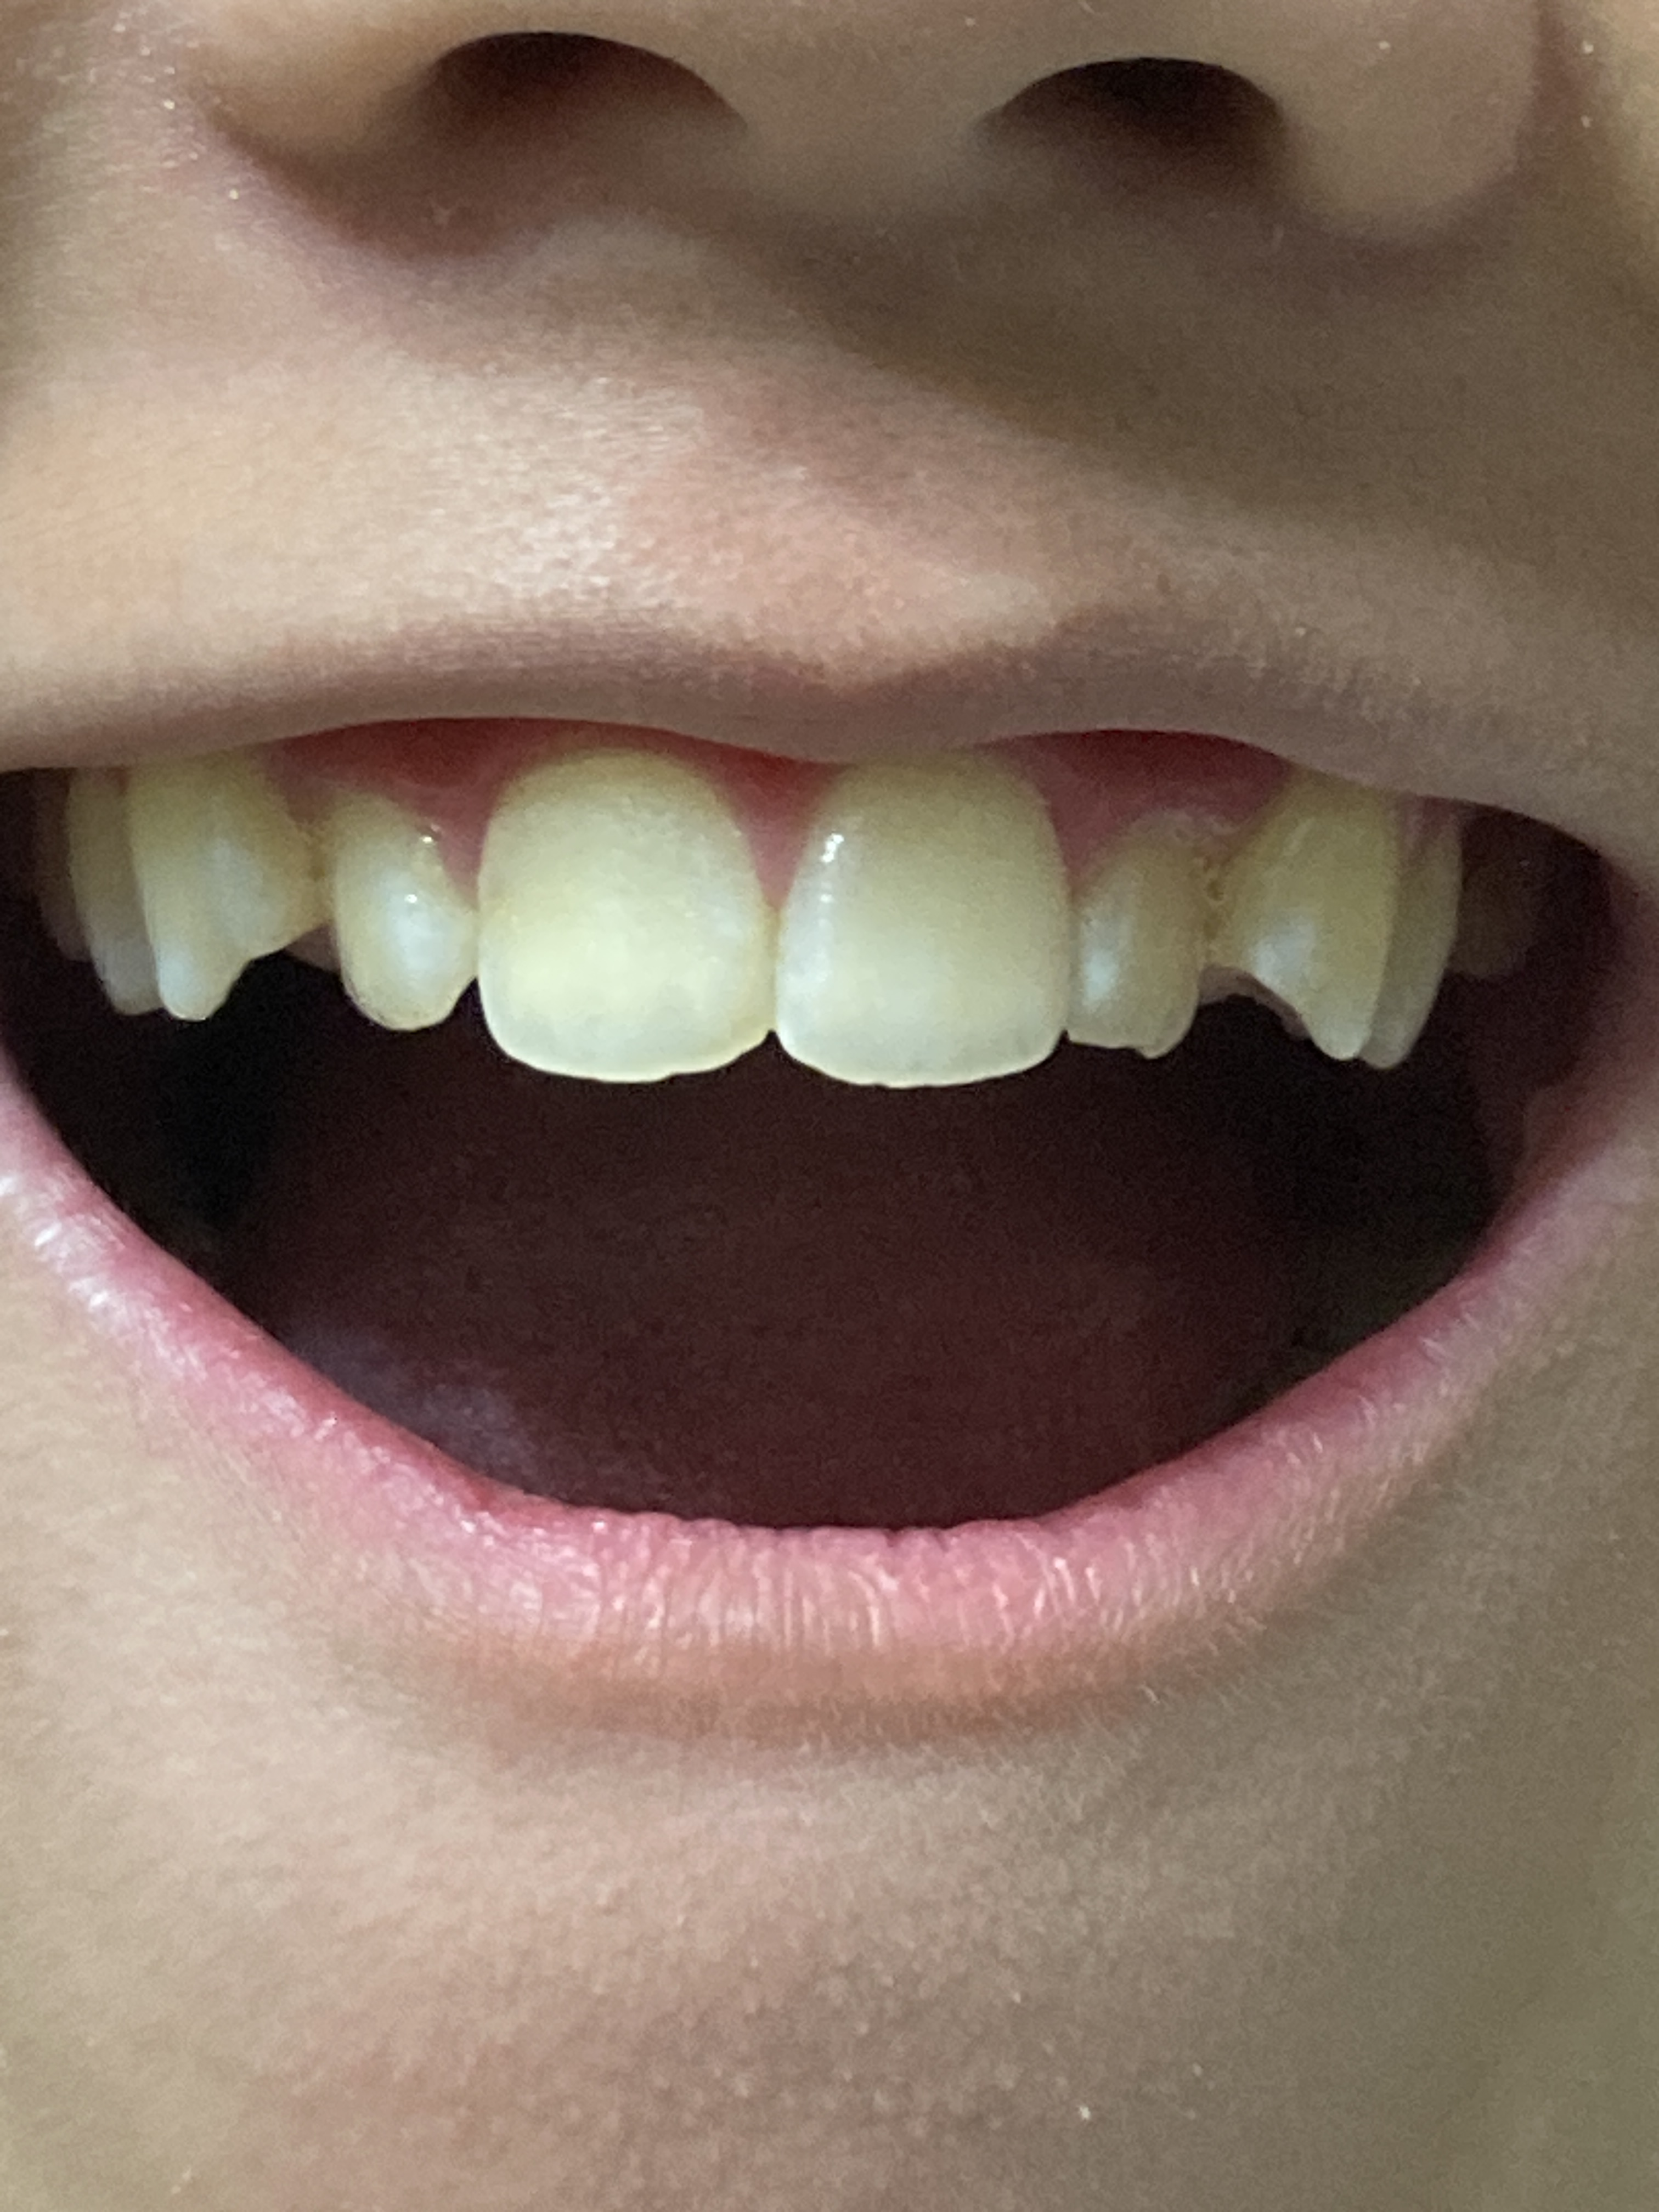teeth: (774, 758, 1047, 1089), (490, 761, 758, 1083), (1232, 789, 1415, 1061), (148, 761, 296, 1029), (342, 817, 460, 1021), (1094, 824, 1202, 1045)
